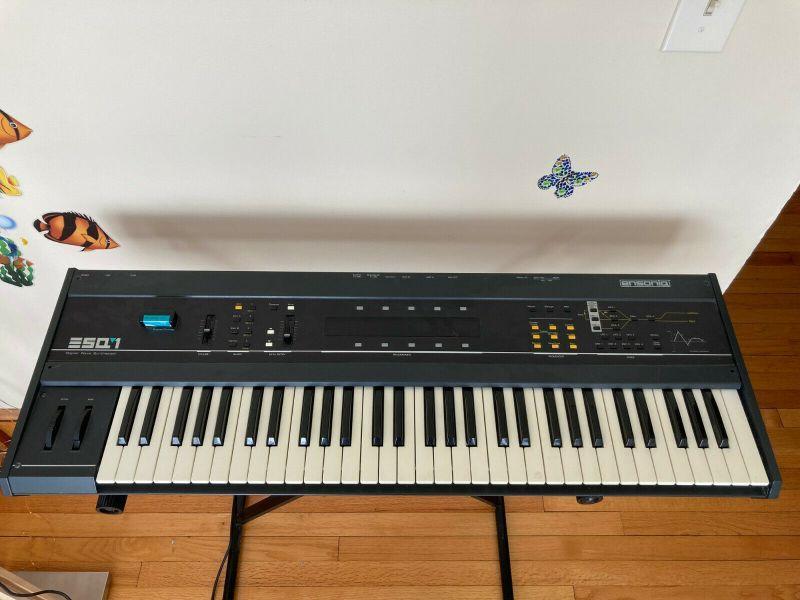synthesizer: (20, 260, 787, 495)
